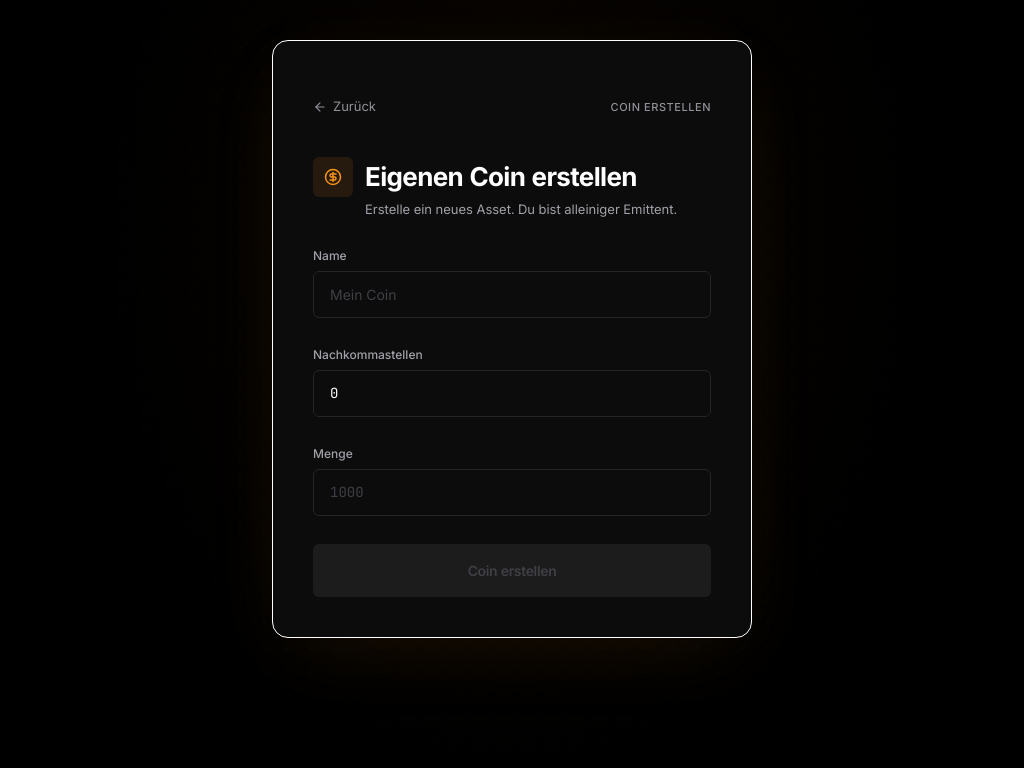
CreateCoinPage — validation › rejects an amount of 0
Type "MyCoin" into the field with test id "create-name-input".
click(512, 294); type("MyCoin")  # box x1=313 y1=271 x2=711 y2=318
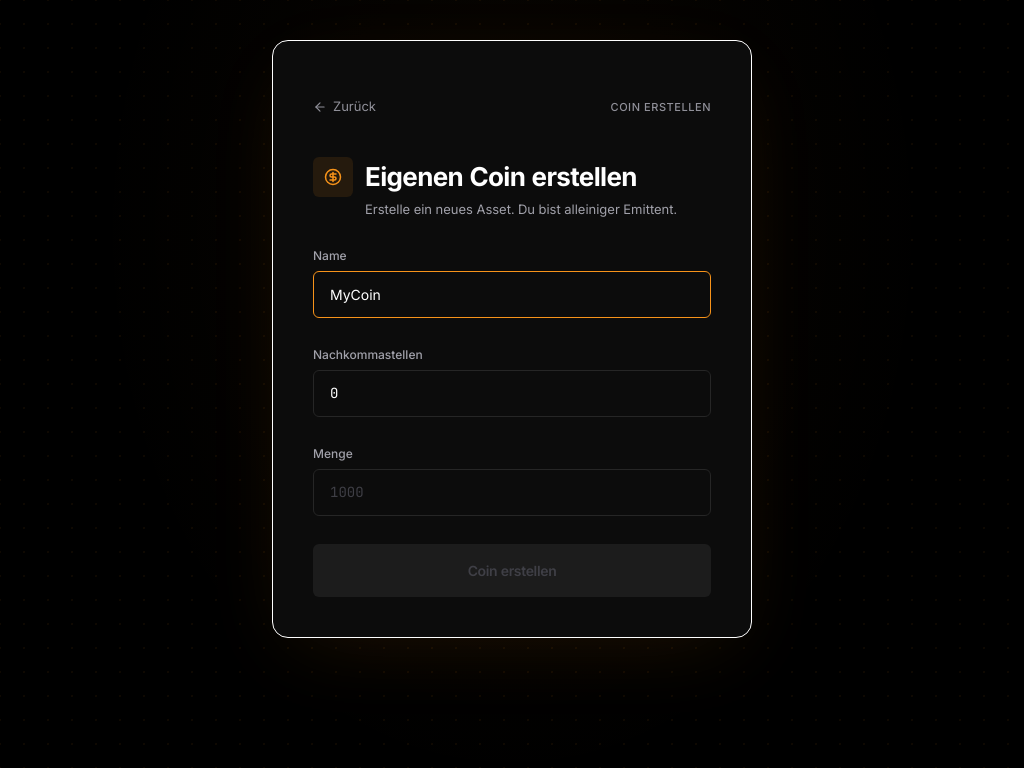
Type "0" into the field with test id "create-amount-input".
click(512, 492); type("0")  # box x1=313 y1=469 x2=711 y2=516
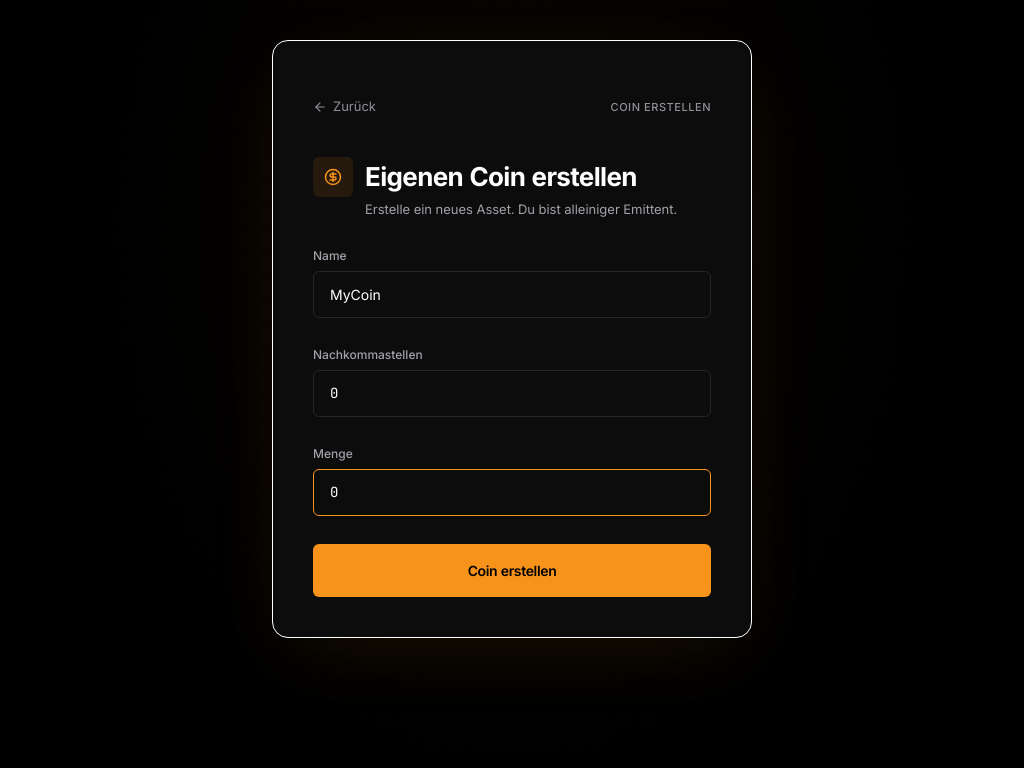
Click the button with test id "create-submit-btn".
click(512, 570)  # box x1=313 y1=544 x2=711 y2=597
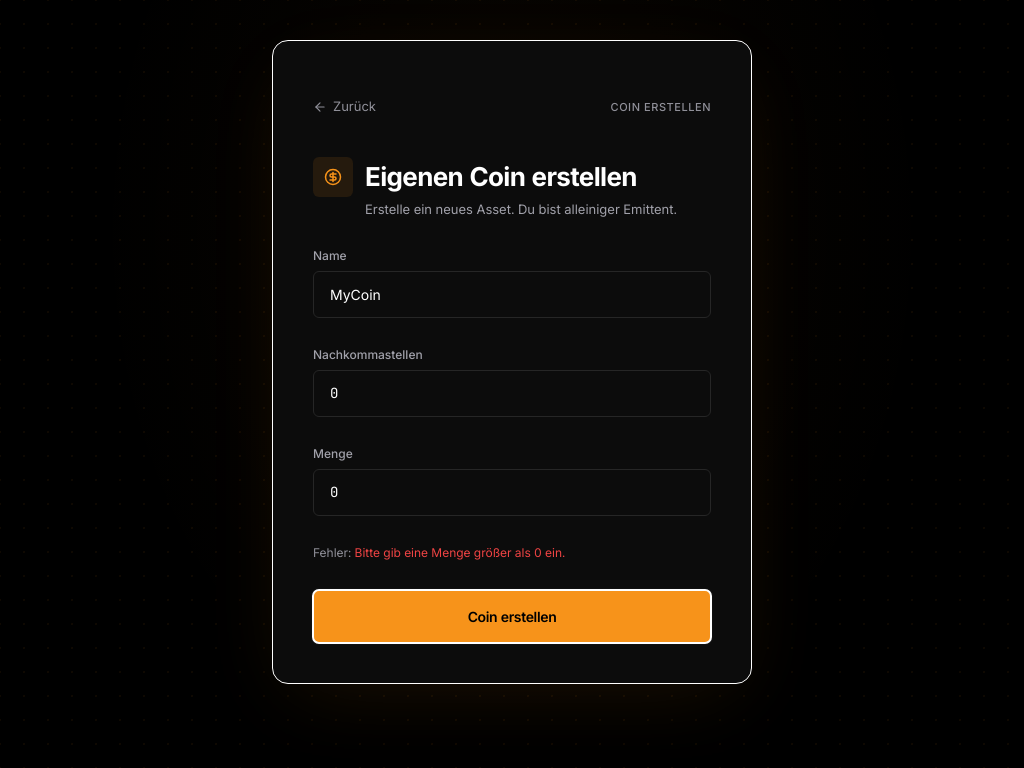
Result: the element with test id "create-error" is shown at x1=313 y1=545 x2=565 y2=560
